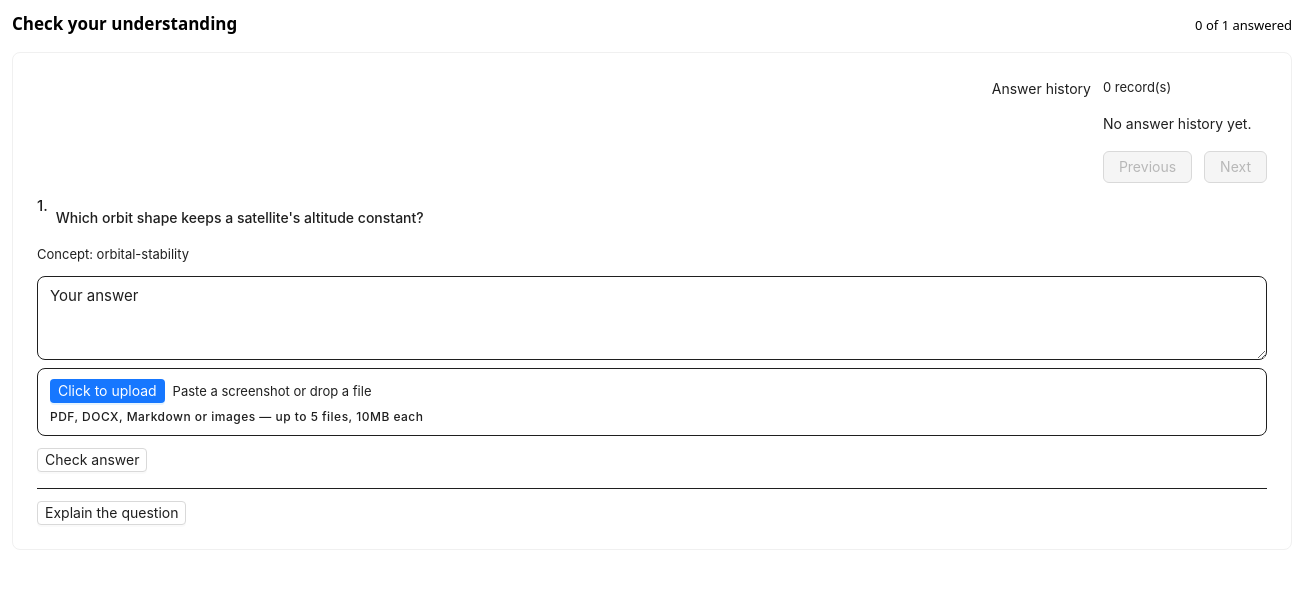
Test: editing the answer clears a stale validation error › clears it when a short-answer input changes
Click the button "Check answer" at (92, 460), box [37,448,148,472]
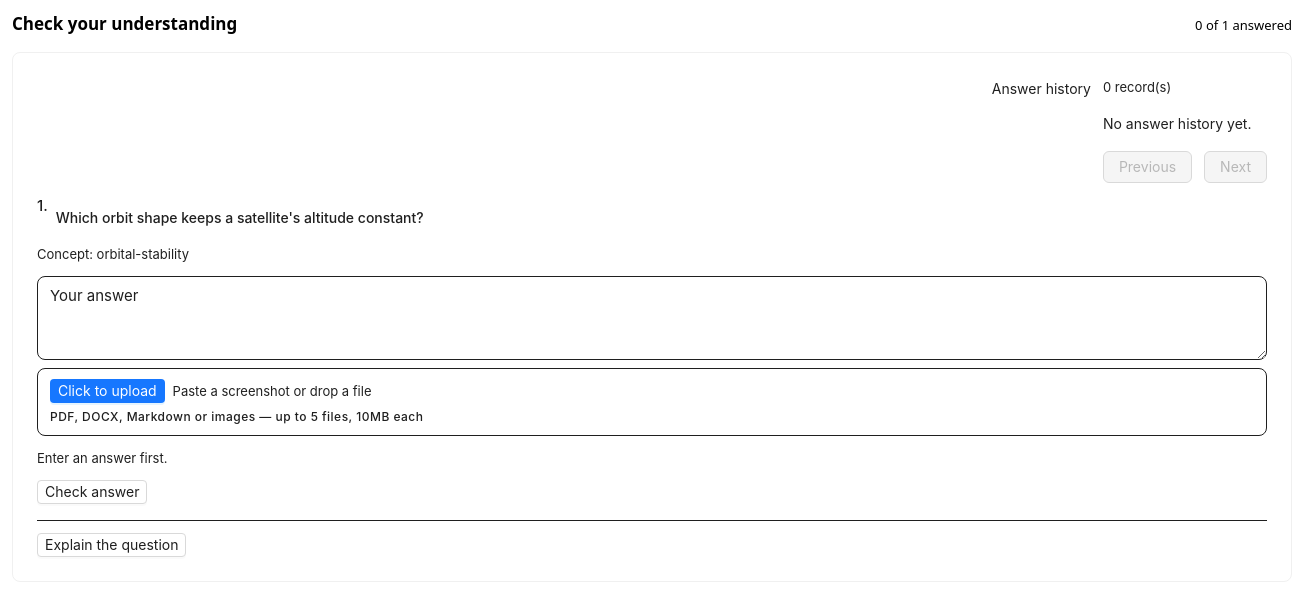
expect the message reads "Enter an answer first.": met, box [37,450,168,466]
Type "Circular" into the text box with placeholder "Your answer" at (652, 318), box [38,277,1266,359]
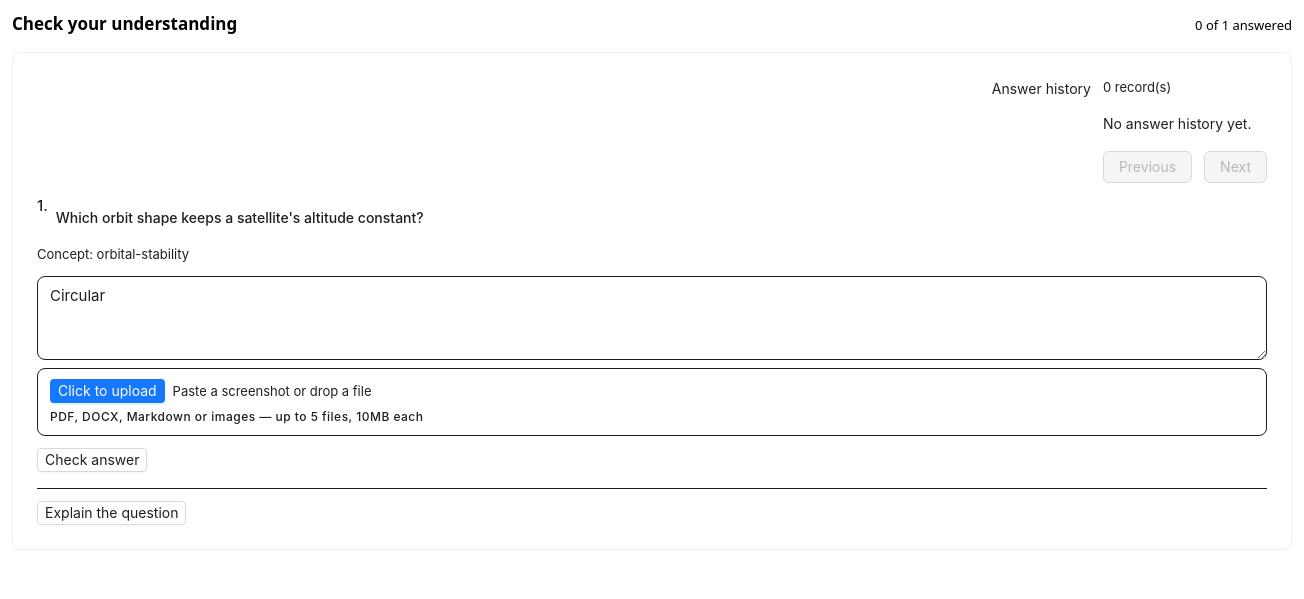
expect the message "Enter an answer first." is gone: met
